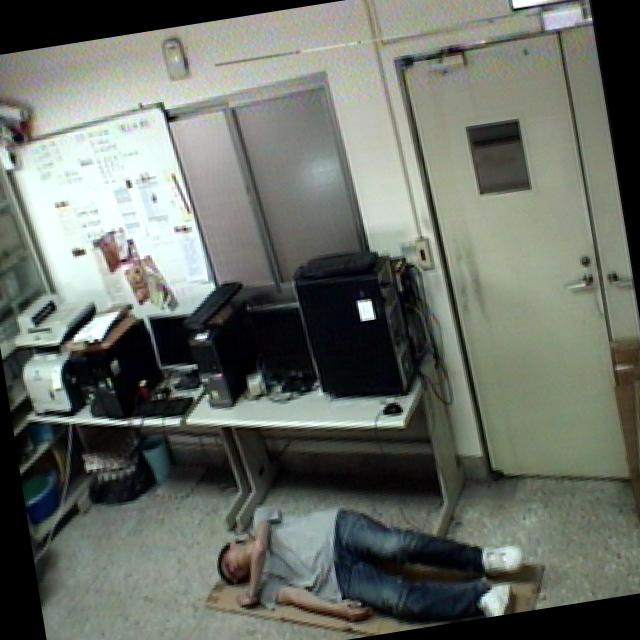lie: (197, 452, 542, 640)
